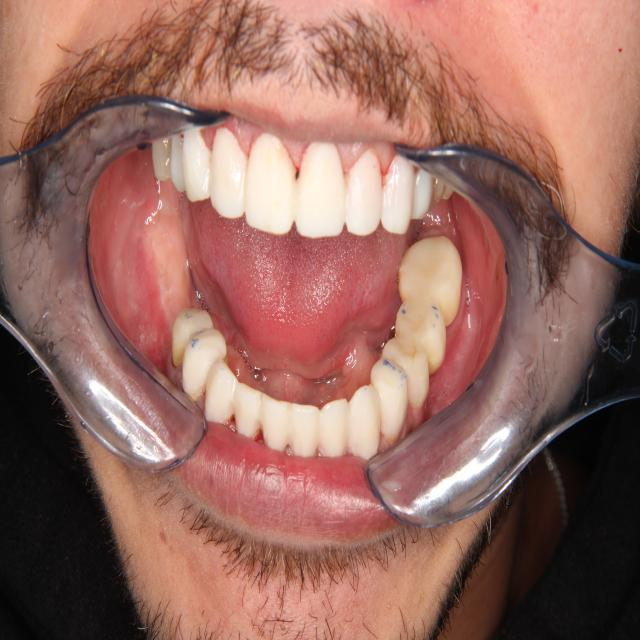tooth: (395, 232, 467, 330), (392, 298, 451, 380), (178, 323, 230, 405), (378, 335, 433, 410), (368, 354, 410, 440), (341, 377, 385, 458), (169, 298, 212, 369), (204, 353, 241, 426), (257, 384, 294, 454), (316, 393, 354, 459), (289, 394, 323, 460), (234, 373, 264, 443)
